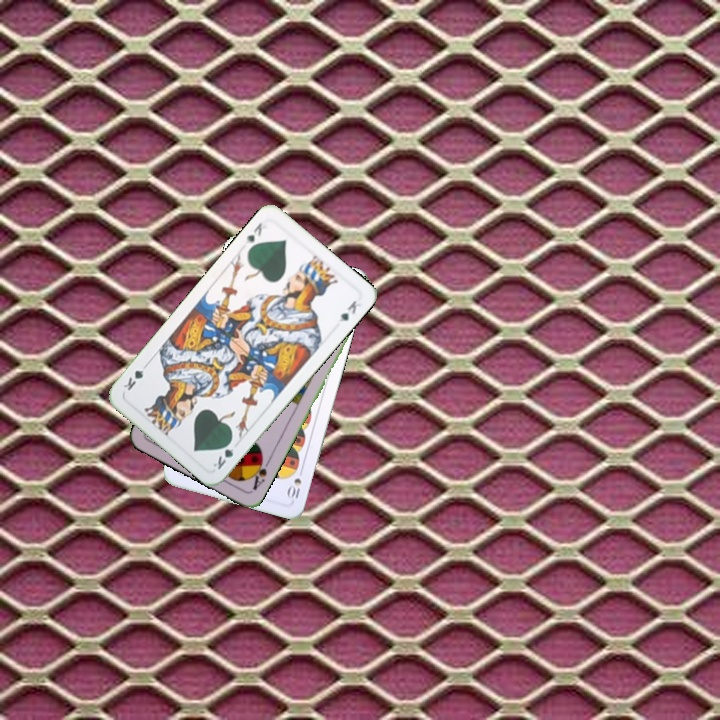GK: (209, 435, 236, 472), (241, 218, 269, 248)
S10: (284, 464, 306, 501)
SA: (246, 453, 273, 493)
